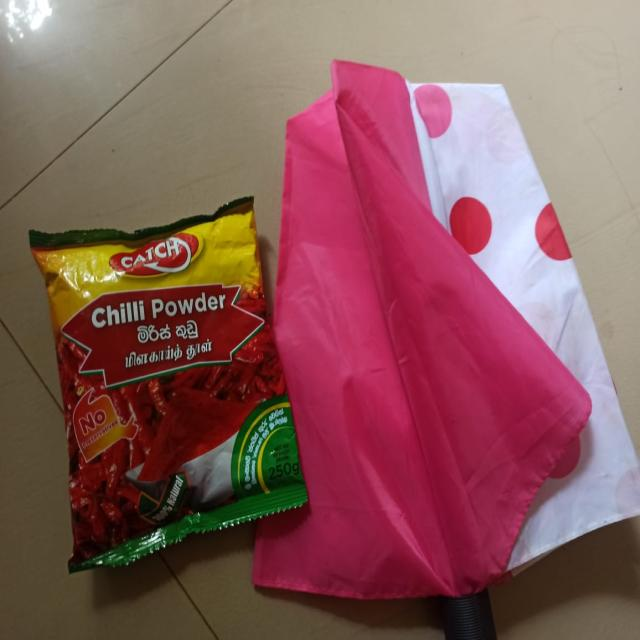Chilli Powder: (26, 188, 311, 583)
